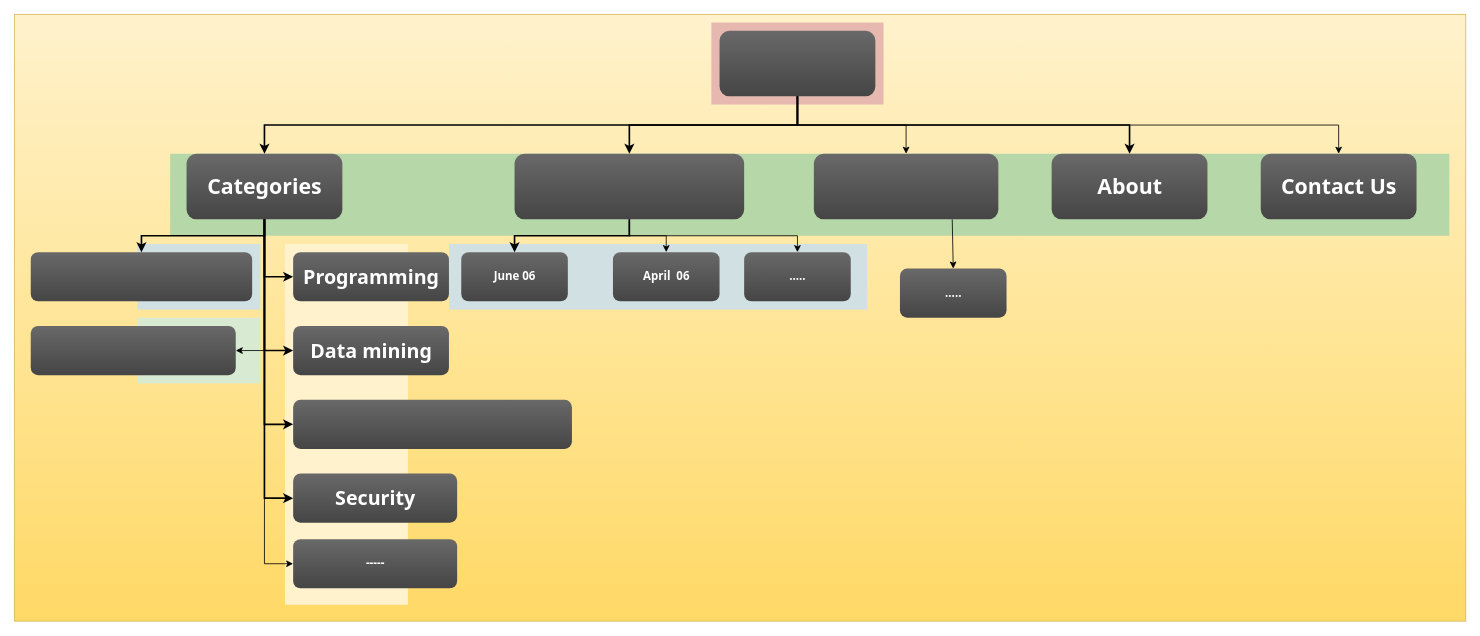
This 1480x636 diagram has some shape labels left out. Each missing label, with the centre of its shape:
"Archives(Monthly)" belongs at point 629,186.
"Home" belongs at point 797,63.
"IT Project Management" belongs at point 432,424.
"Mobile Technologies" belongs at point 141,276.
"Recent Posts" belongs at point 905,186.
"Web Technologies" belongs at point 132,350.
